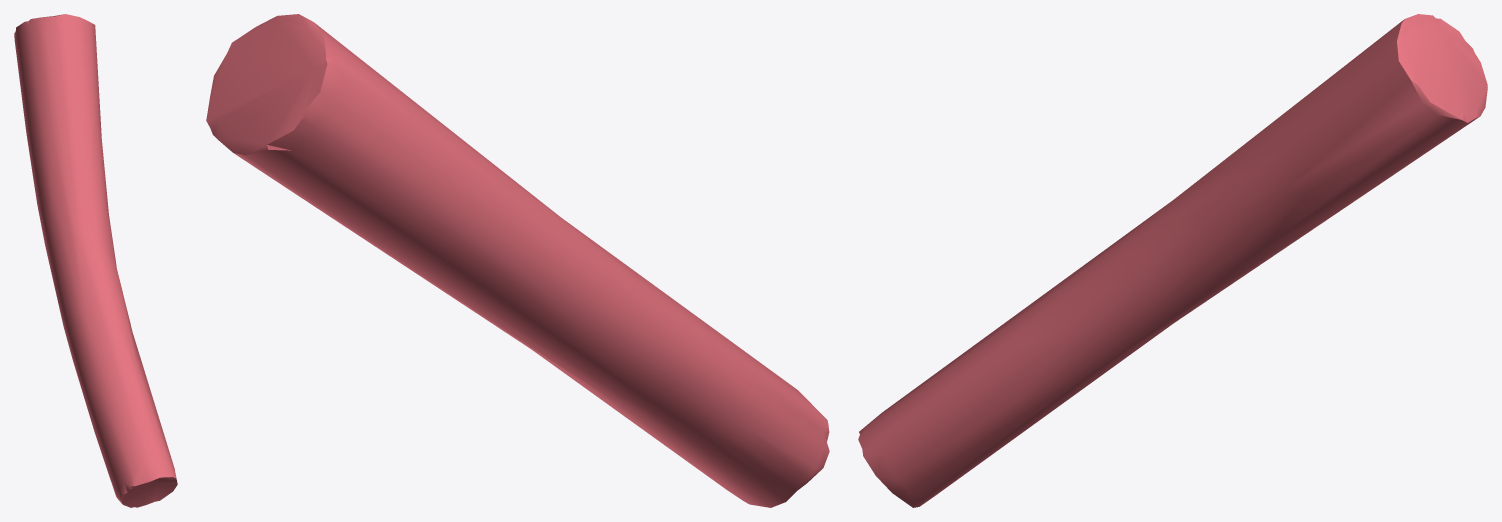
The model's file is fma8630_fj6073.glb.
The picture shows the model from 3 angles, left to right: view 1: azimuth 30°, elevation 25°; view 2: azimuth 150°, elevation 25°; view 3: azimuth 270°, elevation 25°; orthographic projection. The views are drawn at different scales.
Visible parts, largest first — view 1: FMA8630_FJ6073; view 2: FMA8630_FJ6073; view 3: FMA8630_FJ6073.
Boxes of the visible parts, bbox=[...] form: FMA8630_FJ6073: bbox=[14, 14, 177, 507]; FMA8630_FJ6073: bbox=[206, 14, 829, 507]; FMA8630_FJ6073: bbox=[858, 14, 1487, 507].
Bounding box in the file's own units: 0.00494 × 0.0113 × 0.012.
